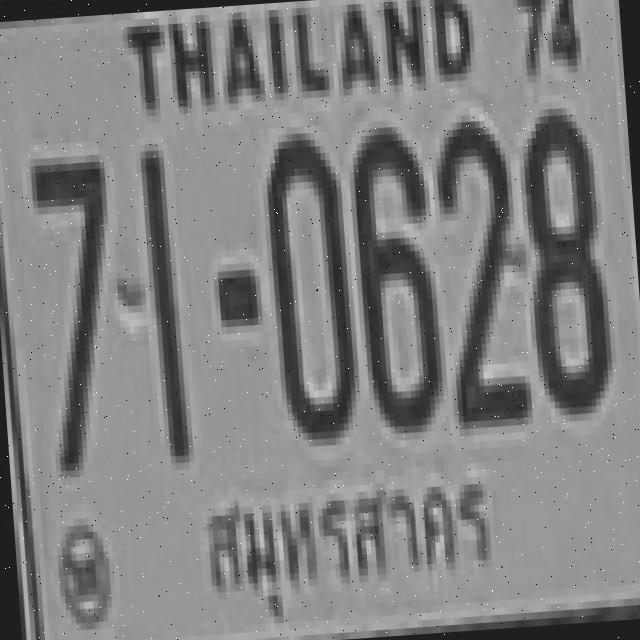0: (259, 130, 358, 434)
1: (137, 146, 186, 453)
2: (430, 112, 524, 408)
6: (346, 121, 440, 432)
7: (24, 154, 120, 464), (25, 151, 113, 371)
8: (516, 103, 610, 413)
SamutSakhon: (176, 454, 504, 628)
